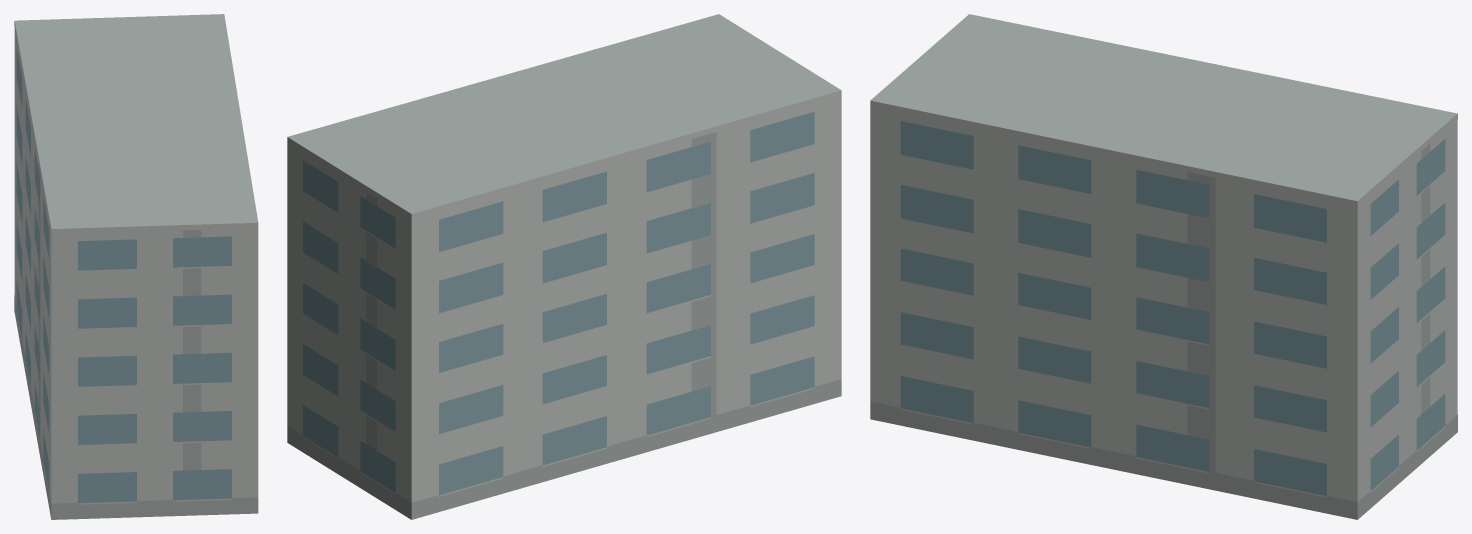
Rendered from survey-upis-32530449.glb.
3 views of the same model, side by side, from view 1: azimuth 30°, elevation 25°; view 2: azimuth 150°, elevation 25°; view 3: azimuth 270°, elevation 25° (orthographic). The views are drawn at different scales.
Visible parts, largest first — view 1: survey-upis-32530449.tmp; view 2: survey-upis-32530449.tmp; view 3: survey-upis-32530449.tmp.
Part boxes in pixels (x1=…): survey-upis-32530449.tmp: x1=14, y1=14, x2=258, y2=519; survey-upis-32530449.tmp: x1=287, y1=14, x2=841, y2=519; survey-upis-32530449.tmp: x1=870, y1=14, x2=1457, y2=519.
Size of the model in its own units: 16.83 by 13.35 by 22.32.
